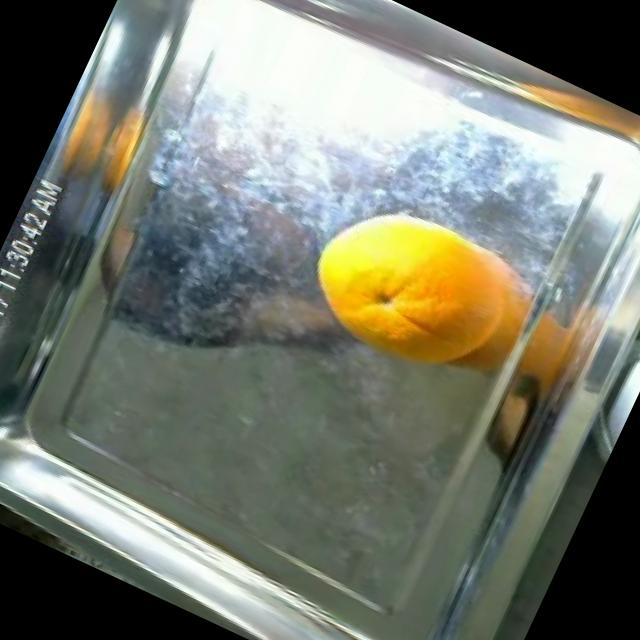Fruit: (275, 166, 487, 382)
